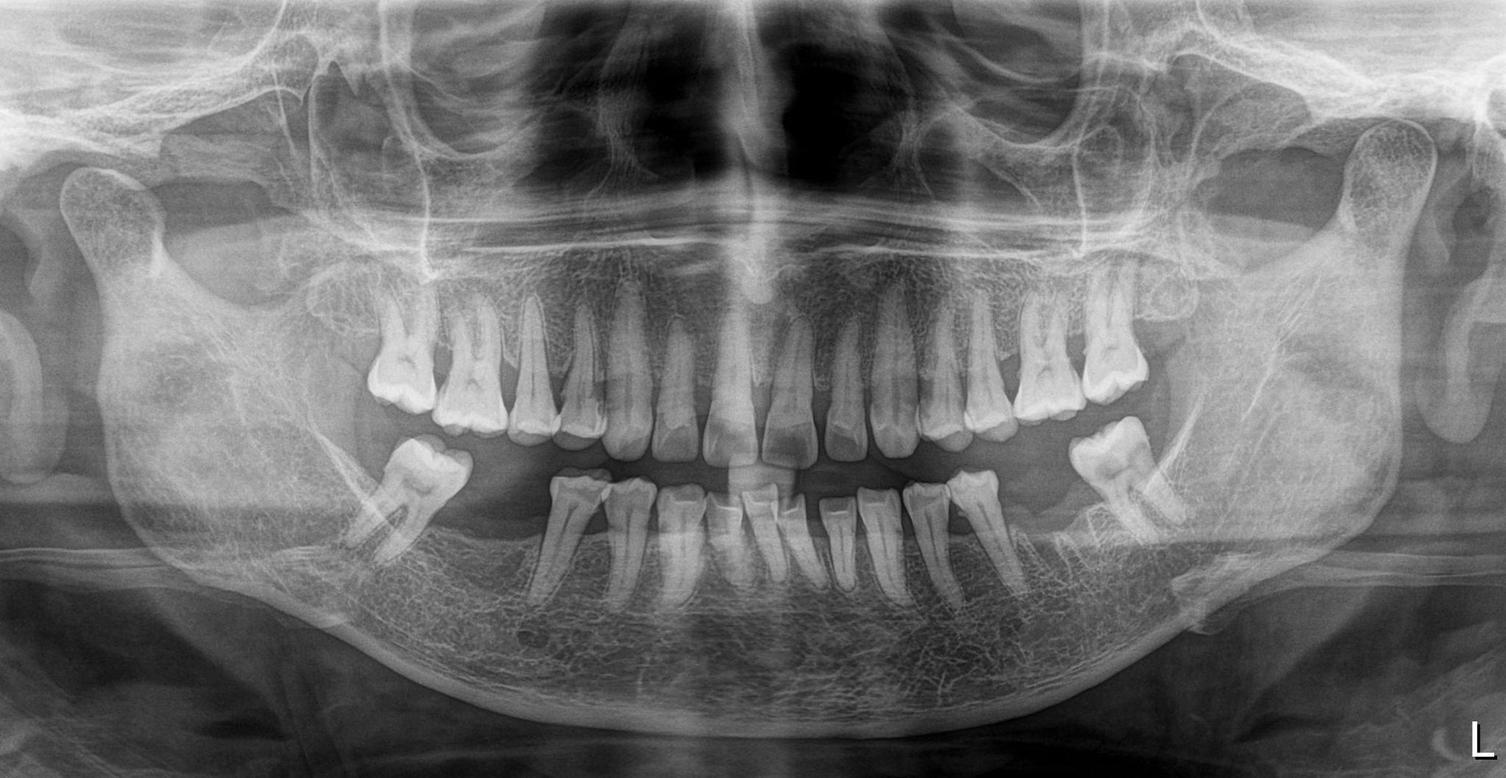Impacted Third Molar: (357, 432, 460, 565), (1075, 414, 1163, 537)
Missing Tooth: (1011, 465, 1092, 589), (461, 476, 535, 597), (320, 277, 376, 405), (1145, 292, 1199, 398)
